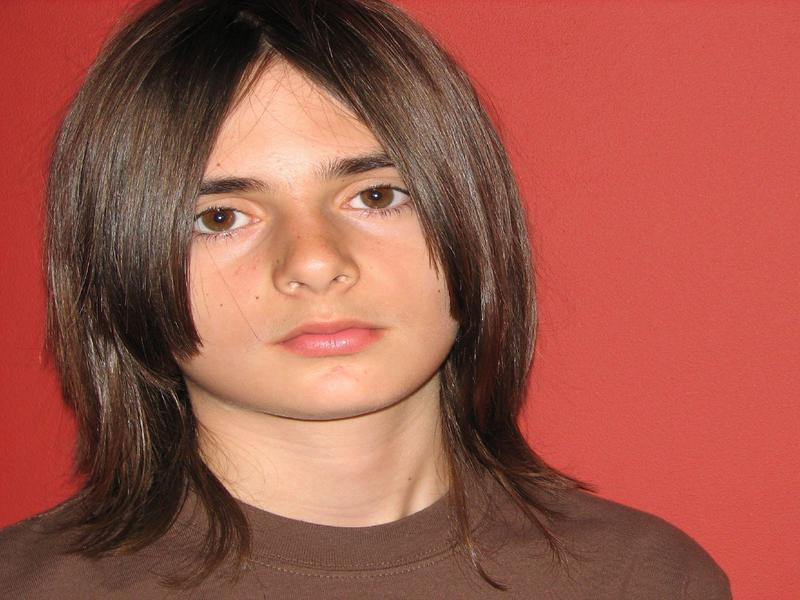person: (14, 1, 748, 597)
